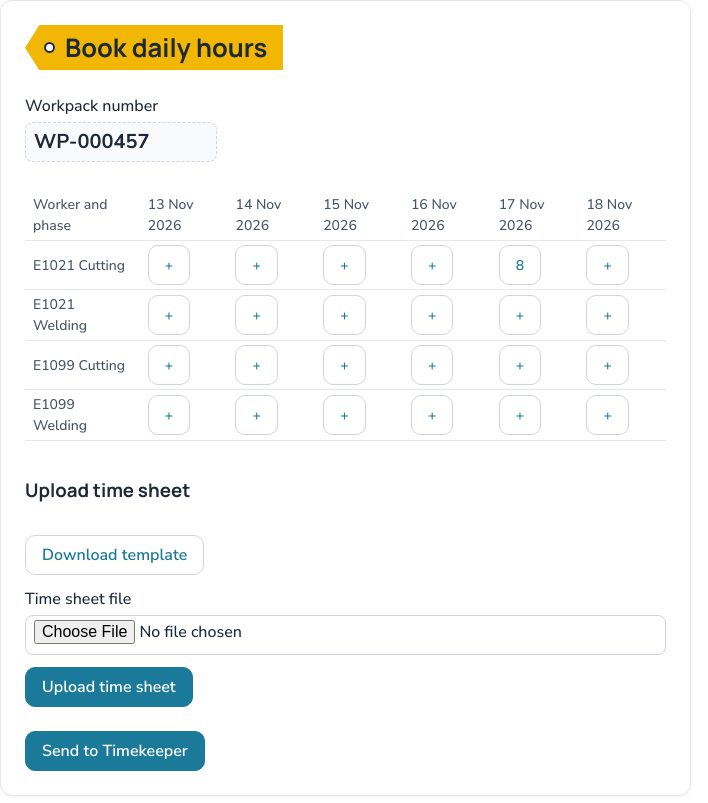
BookHours › BPA50_changingADraftLinePutsTheNewHours
Later steps or results of the test are not shown.
What coordinates should you click on to do the following:
click the button named "E1021 Cutting 17 Nov 2026"
I would click on:
 (520, 265)
Its box is left=499, top=245, right=541, bottom=285.
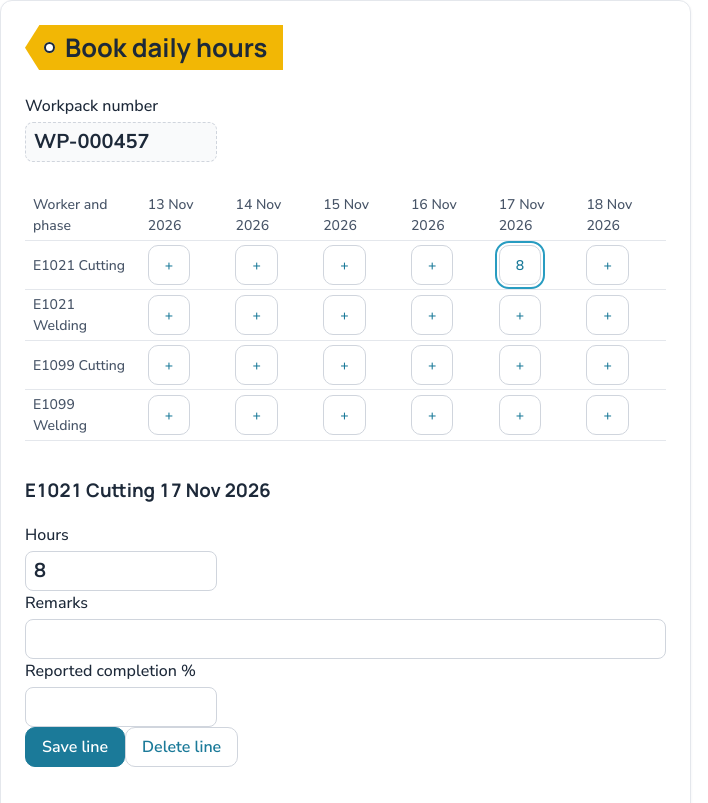
Expected: the field labelled "Hours" holds "8", left=25, top=551, right=217, bottom=591
